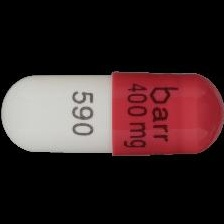0555-0590: (0, 0, 224, 224)
